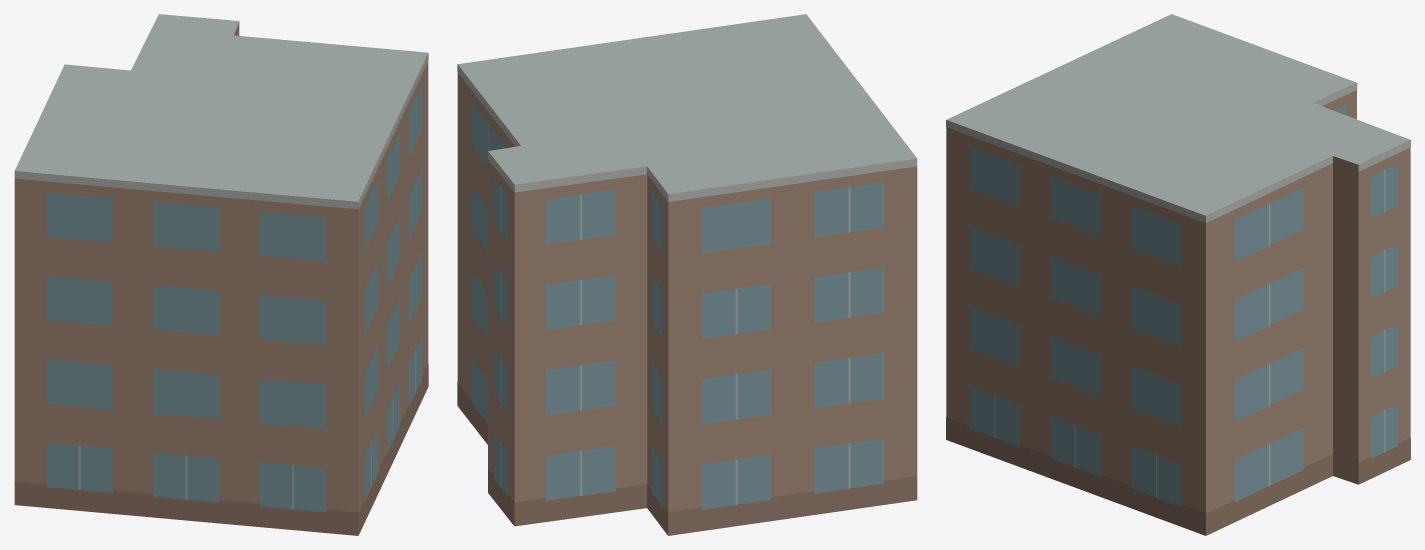
Rendered from survey-upis-32903451.glb.
The picture shows the model from 3 angles, left to right: view 1: azimuth 30°, elevation 25°; view 2: azimuth 150°, elevation 25°; view 3: azimuth 270°, elevation 25°; orthographic projection. The views are drawn at different scales.
Visible parts, largest first — view 1: survey-upis-32903451.tmp; view 2: survey-upis-32903451.tmp; view 3: survey-upis-32903451.tmp.
Boxes of the visible parts, x1,y1,x2,y2 form: survey-upis-32903451.tmp: (14, 14, 428, 535); survey-upis-32903451.tmp: (457, 14, 917, 535); survey-upis-32903451.tmp: (946, 14, 1410, 535).
Bounding box in the file's own units: 14.48 × 10.7 × 14.08.
